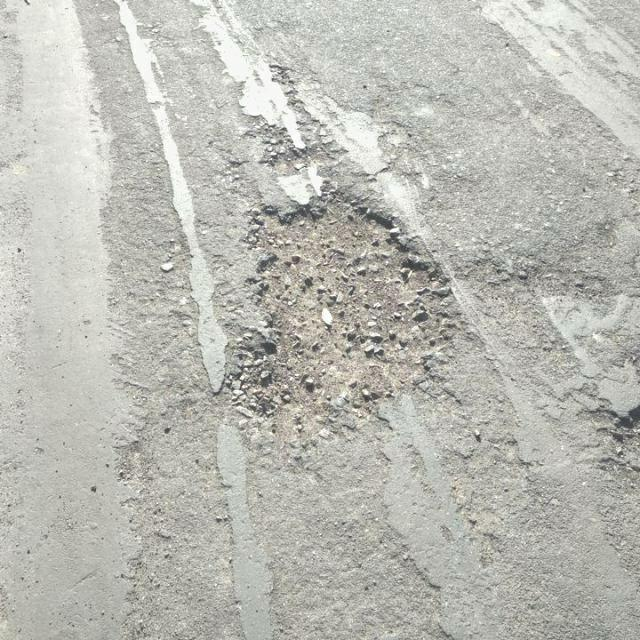Pothole: (223, 187, 460, 446)
